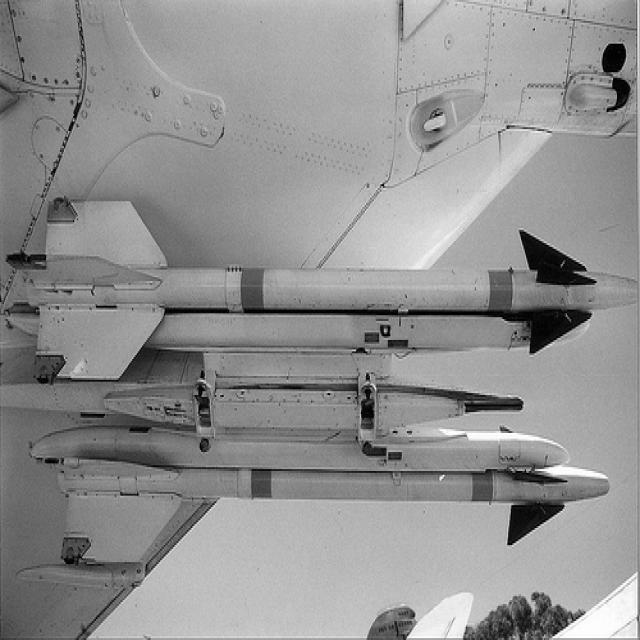Missile: (20, 195, 639, 390), (25, 260, 640, 316), (52, 465, 620, 507)
